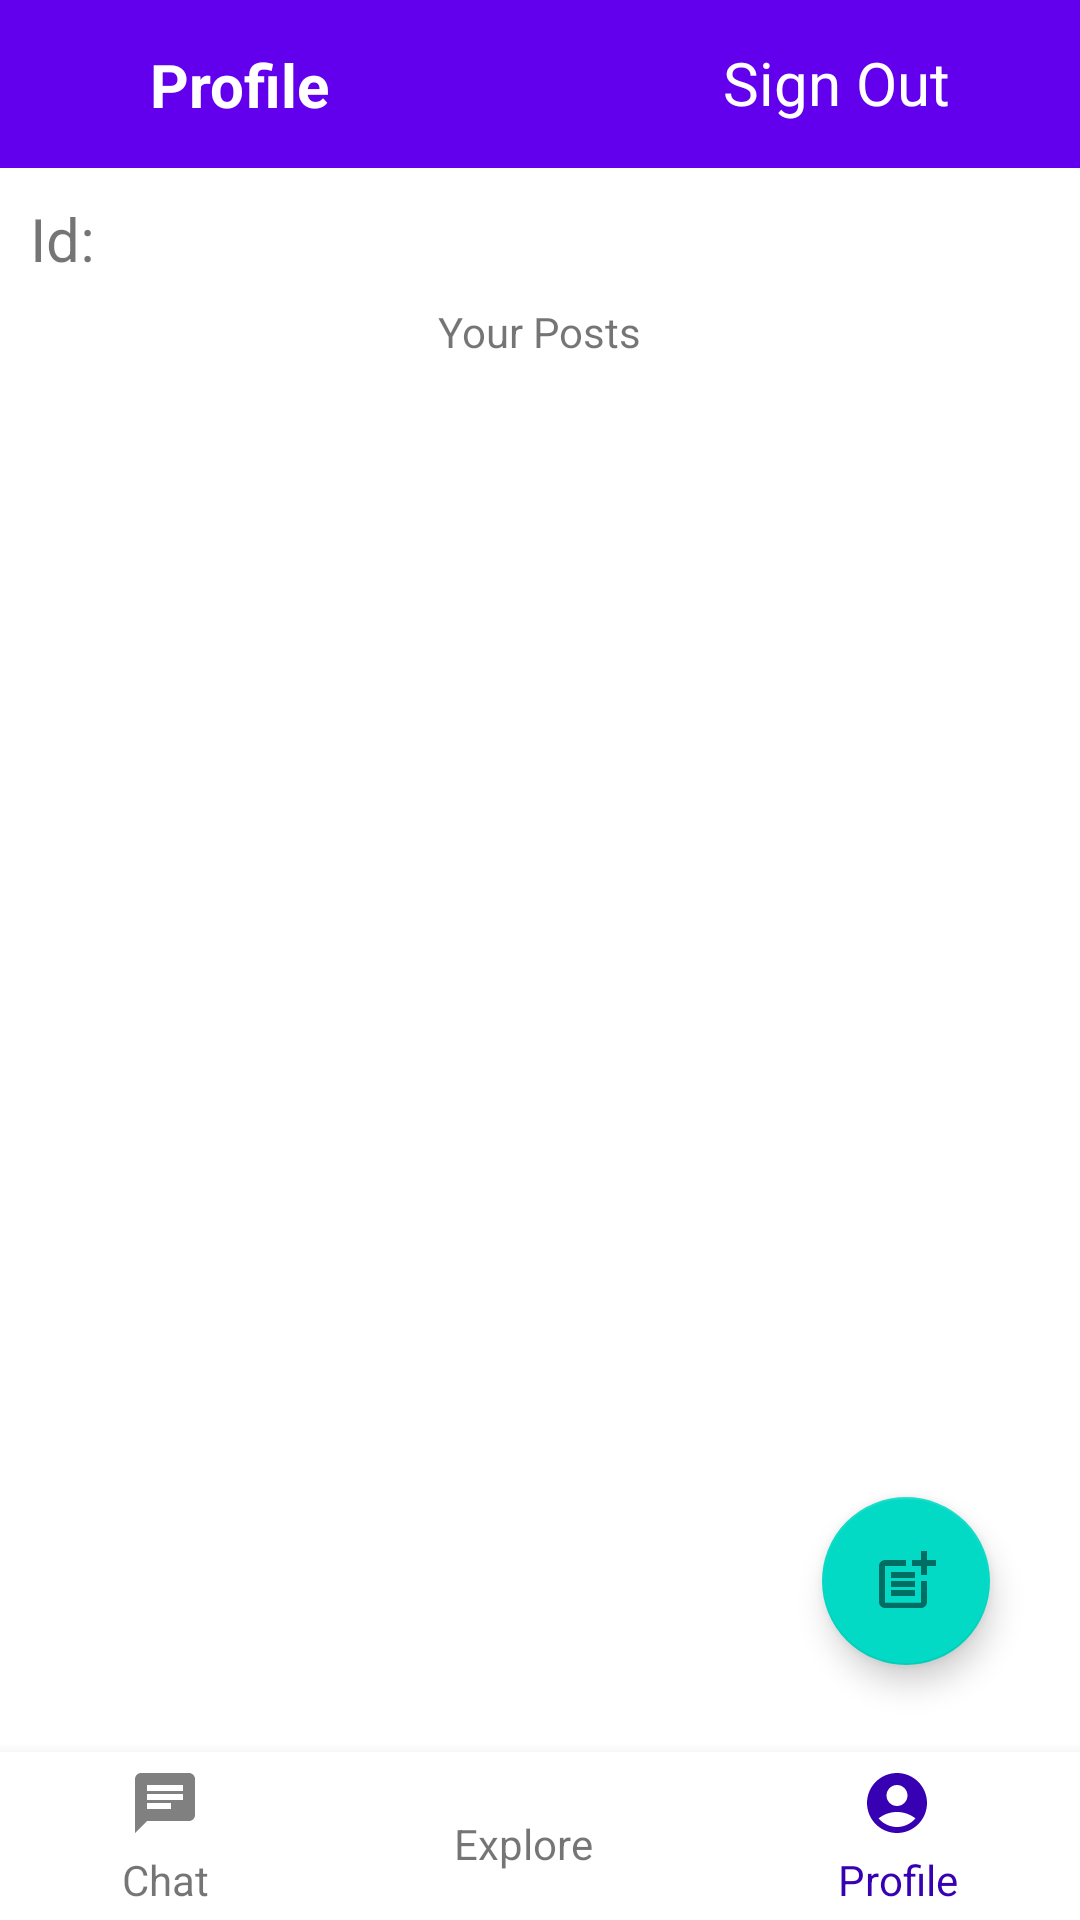

Screen size 1080 x 1920. Icon name, then its box in pixels as detection(x1, y1, x2, y2):
post add: detection(822, 1497, 990, 1665)
